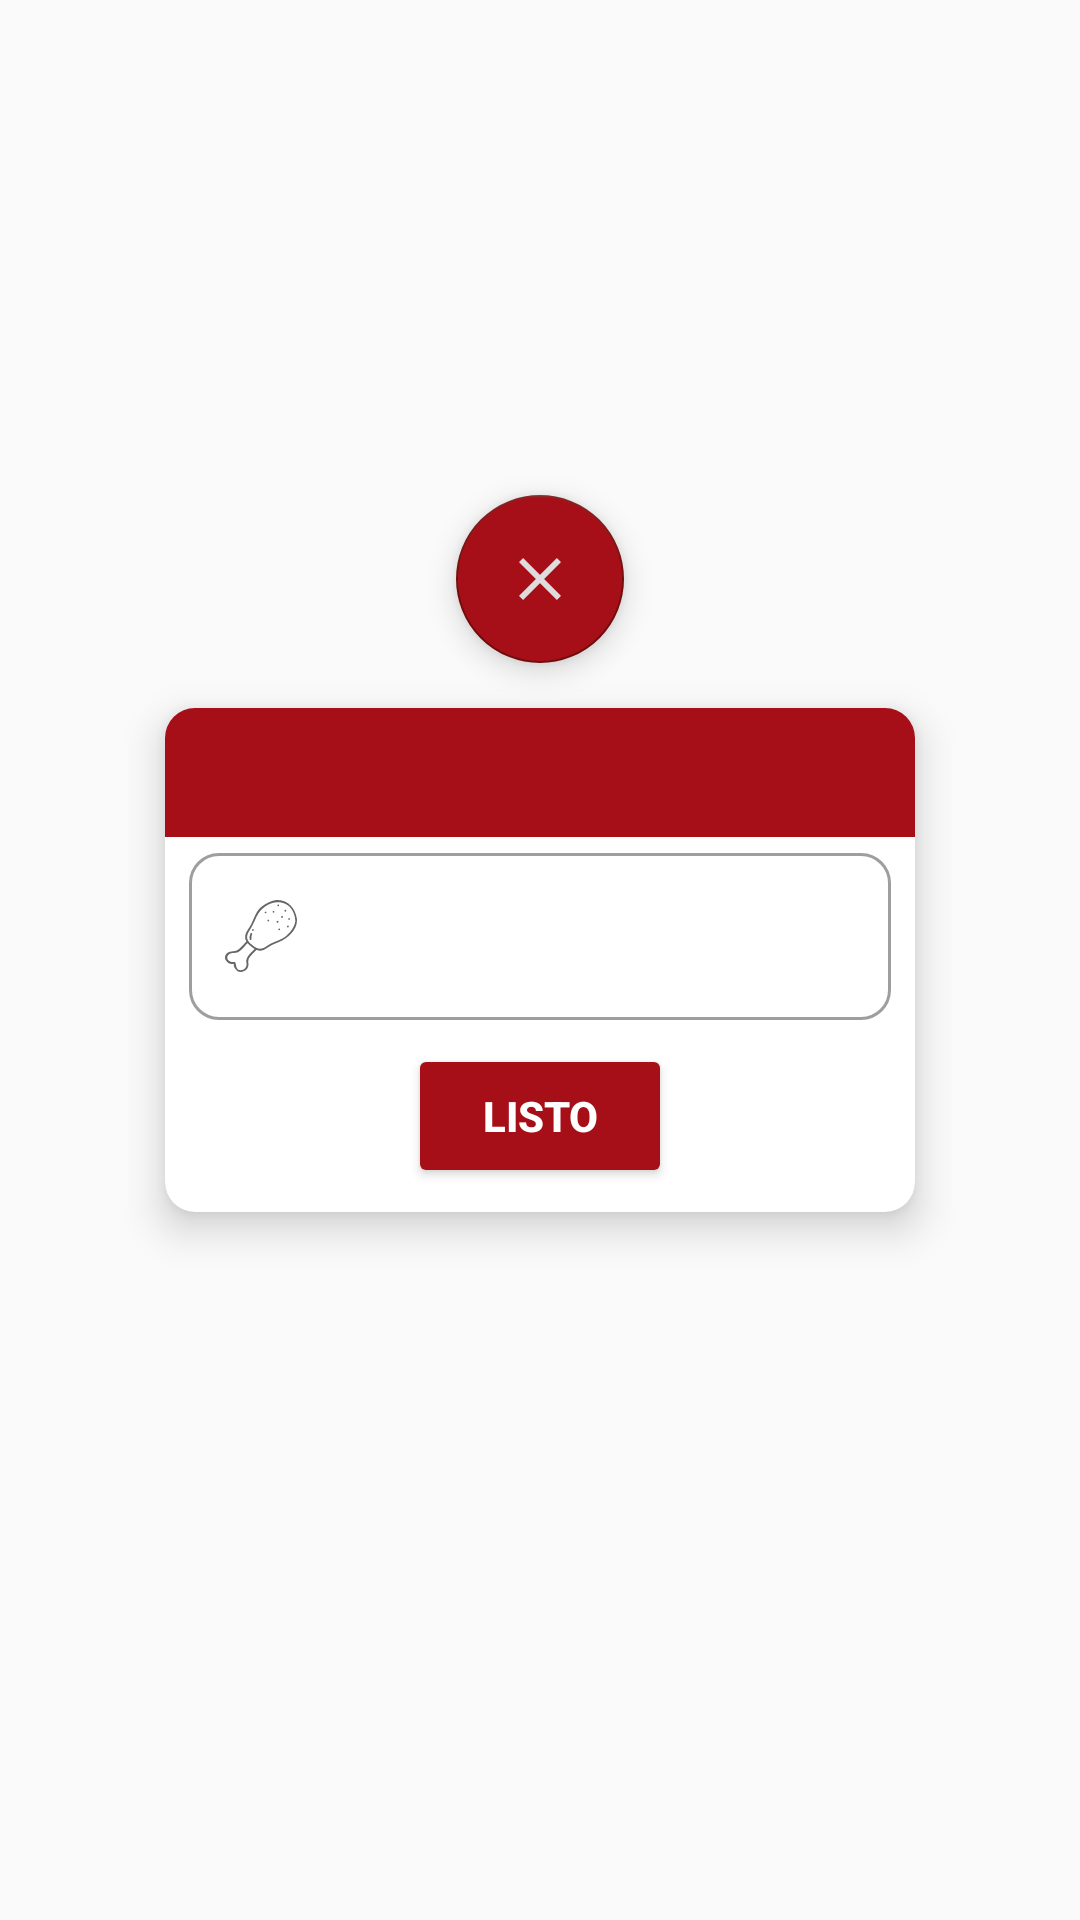

Icon bounding boxes for this 1080x1920 phone screenshot, format (x1, y1, x2, y2):
close: (456, 495, 624, 663)
